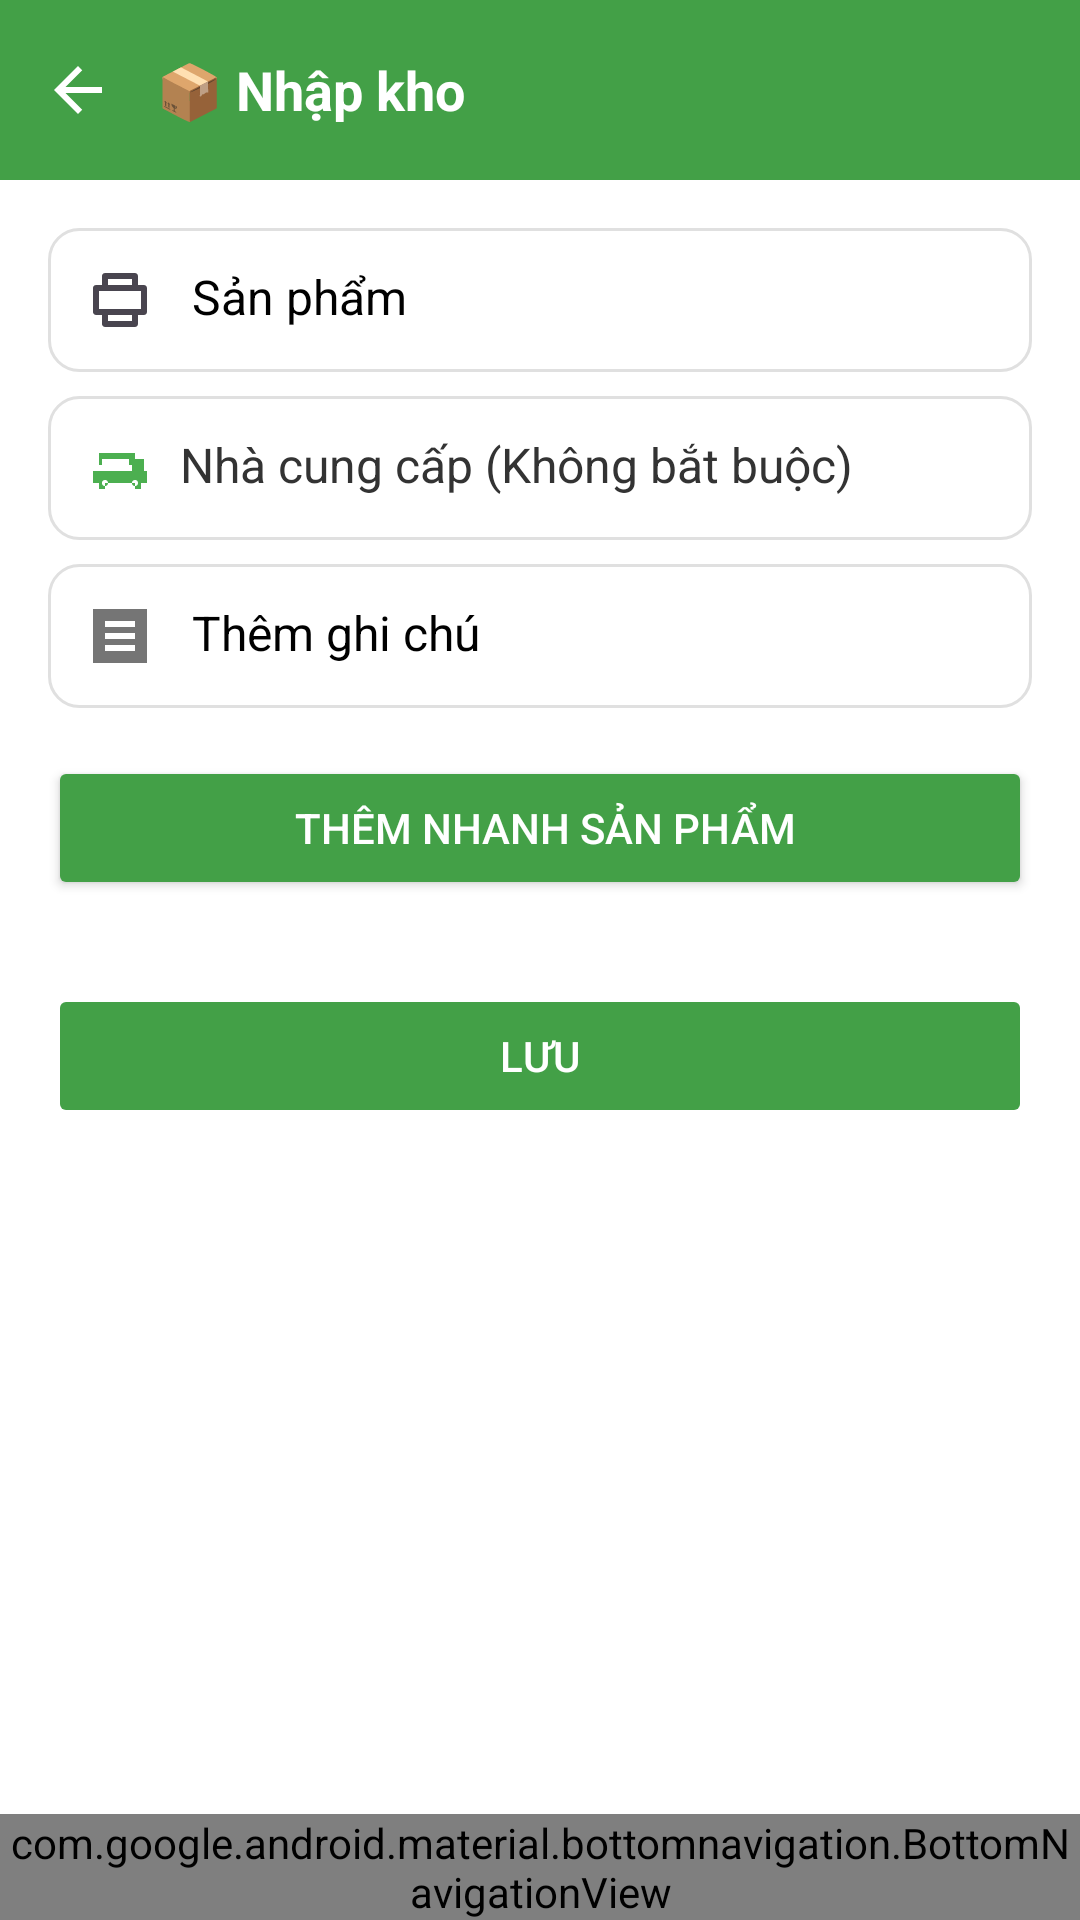

Locate icon controls on the screen. Image size 1080×1920, boxes as (x1, y1, x2, y2).
note: (93, 609, 147, 663)
Quay lại: (54, 66, 102, 114)
truck: (93, 453, 147, 489)
